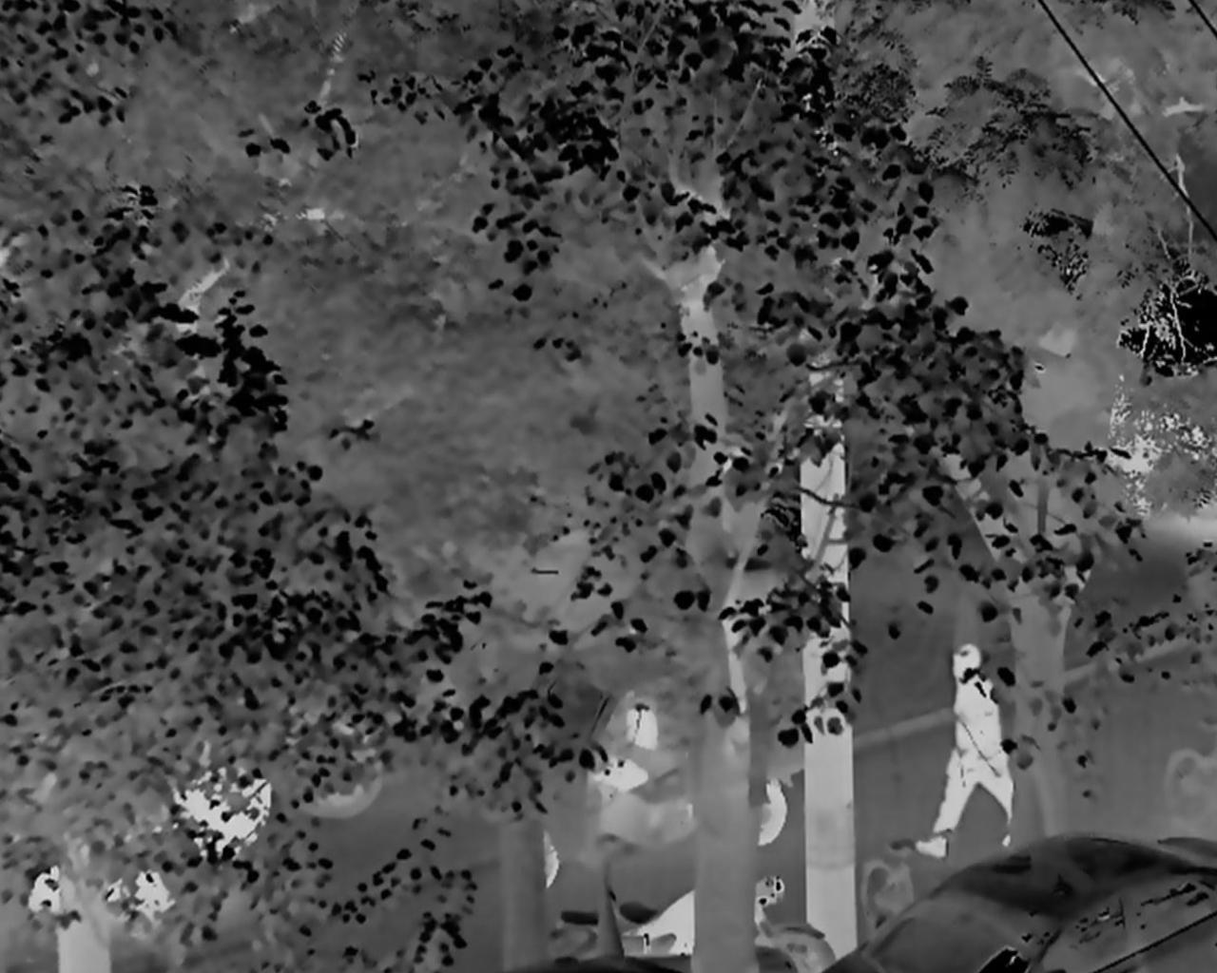person: (915, 644, 1014, 857)
